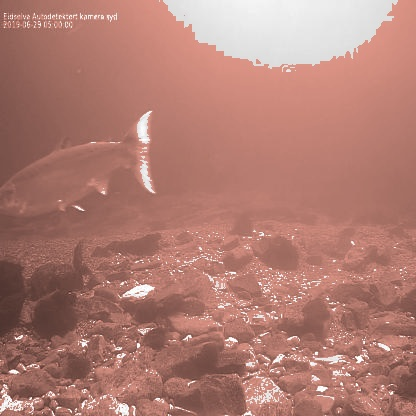salmon: (0, 109, 158, 219)
